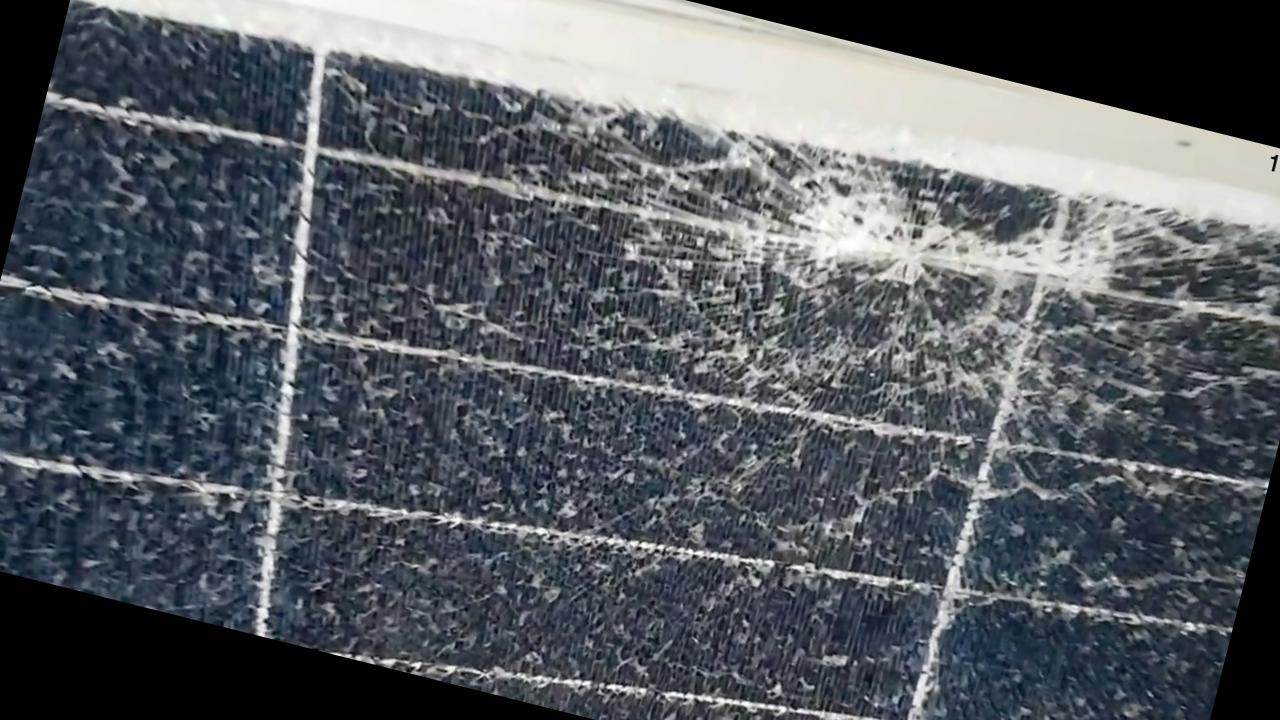Crack: (596, 83, 1240, 512)
